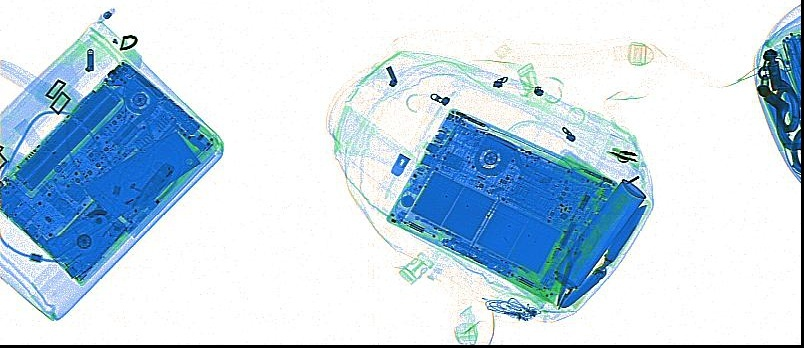handcuffs: (754, 47, 799, 172)
knife: (45, 130, 202, 257), (604, 202, 646, 264), (130, 160, 176, 214), (557, 265, 606, 307), (777, 65, 799, 125)
pressure: (551, 178, 646, 292)
scissors: (553, 219, 598, 307)
